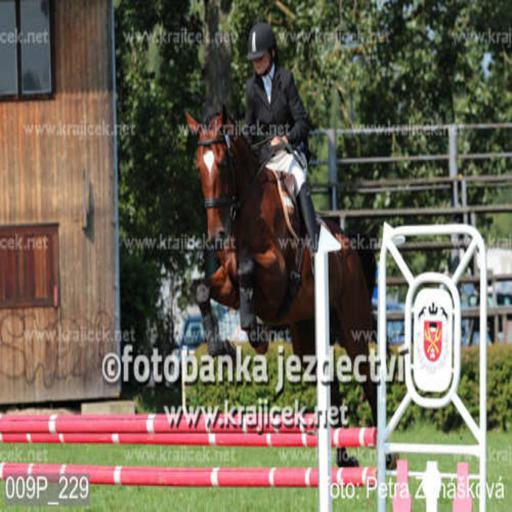Horse: (186, 114, 400, 472)
